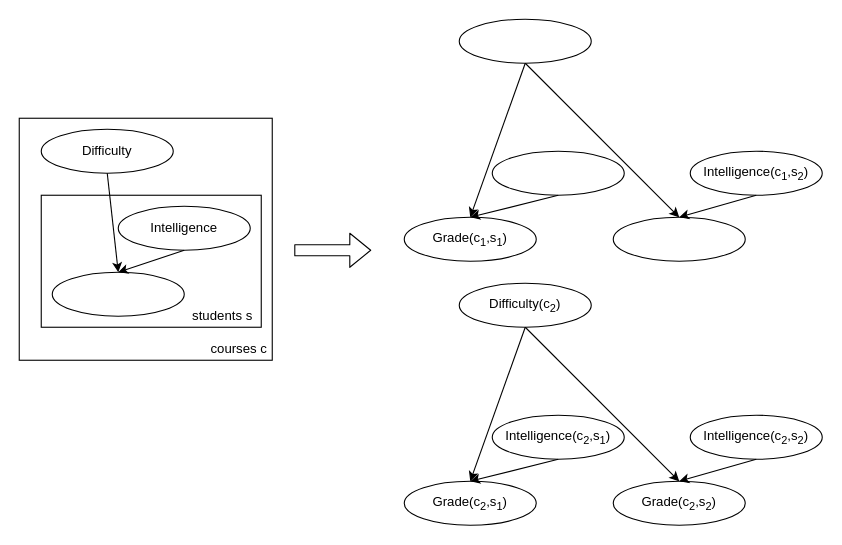
Some shapes in this 842 by 545 pixel diagram are drawn without their labels. Each missing label, with the centre of its shape:
"Difficulty(c 1 )" belongs at point (524, 40).
"Grade" belongs at point (117, 293).
"Grade(c 1 ,s 2 )" belongs at point (678, 238).
"Intelligence(c 1 ,s 1 )" belongs at point (557, 172).
